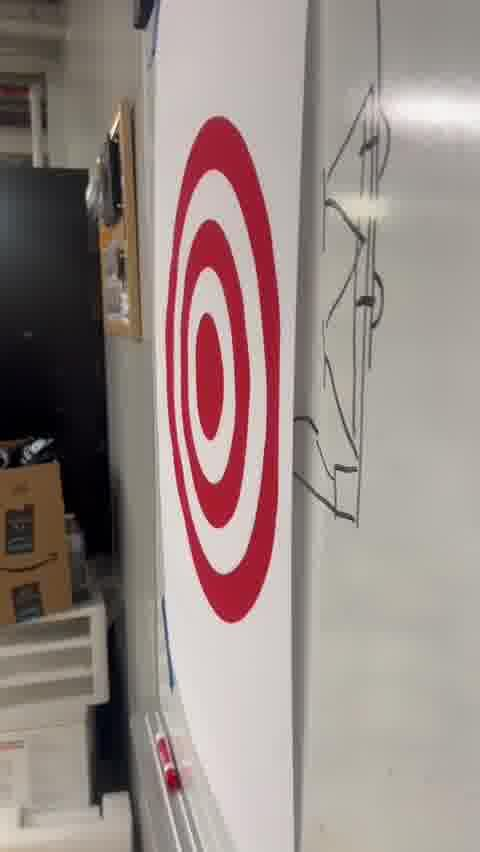target_red: (165, 116, 278, 625)
